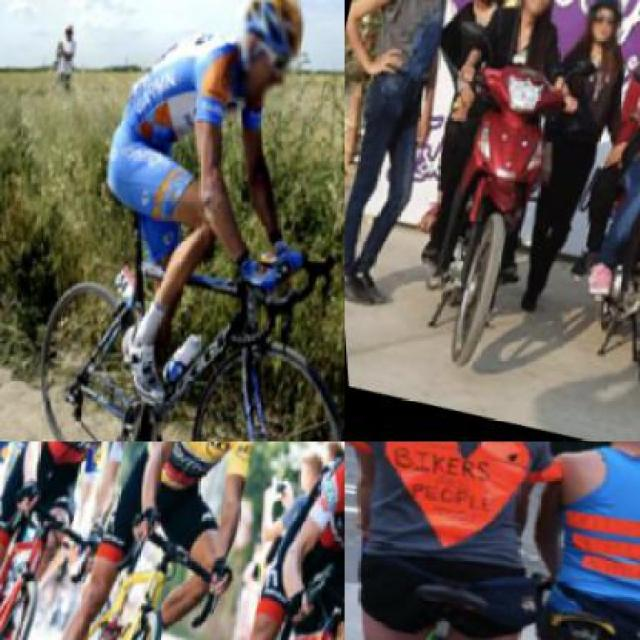With Helmet: (209, 0, 320, 125), (566, 0, 632, 62)
Without Helmet: (505, 0, 566, 29)
